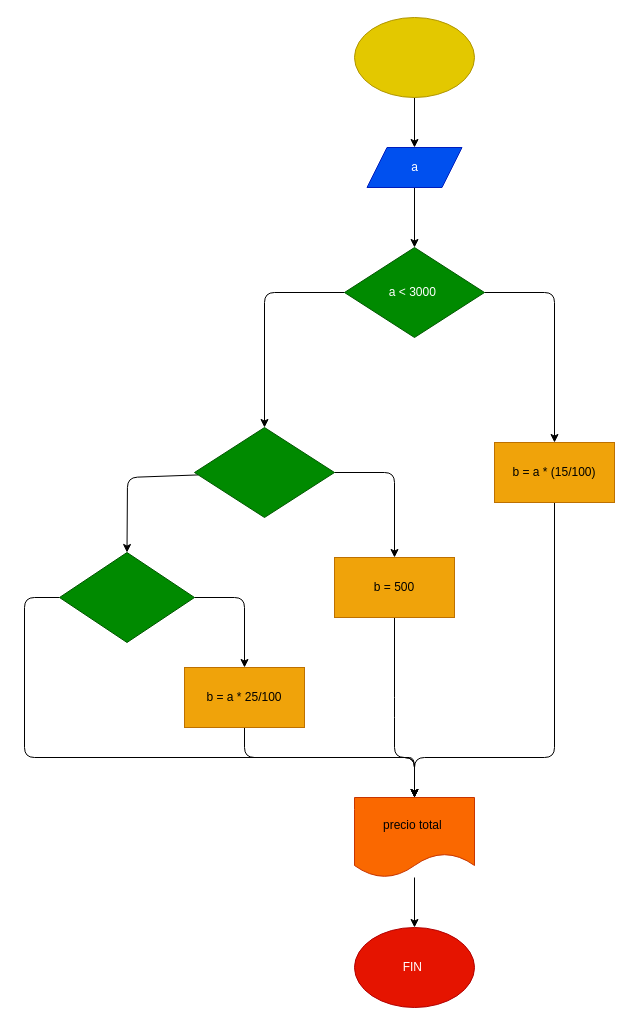
Image size: 632x1025. Some labels were removed from this diagram. The centre of each missing label's shape, as x and y in pixels:
"3000 < a < 6000:" belongs at (264,472).
"a > 6000" belongs at (126,597).
"INICIO" belongs at (414,57).
